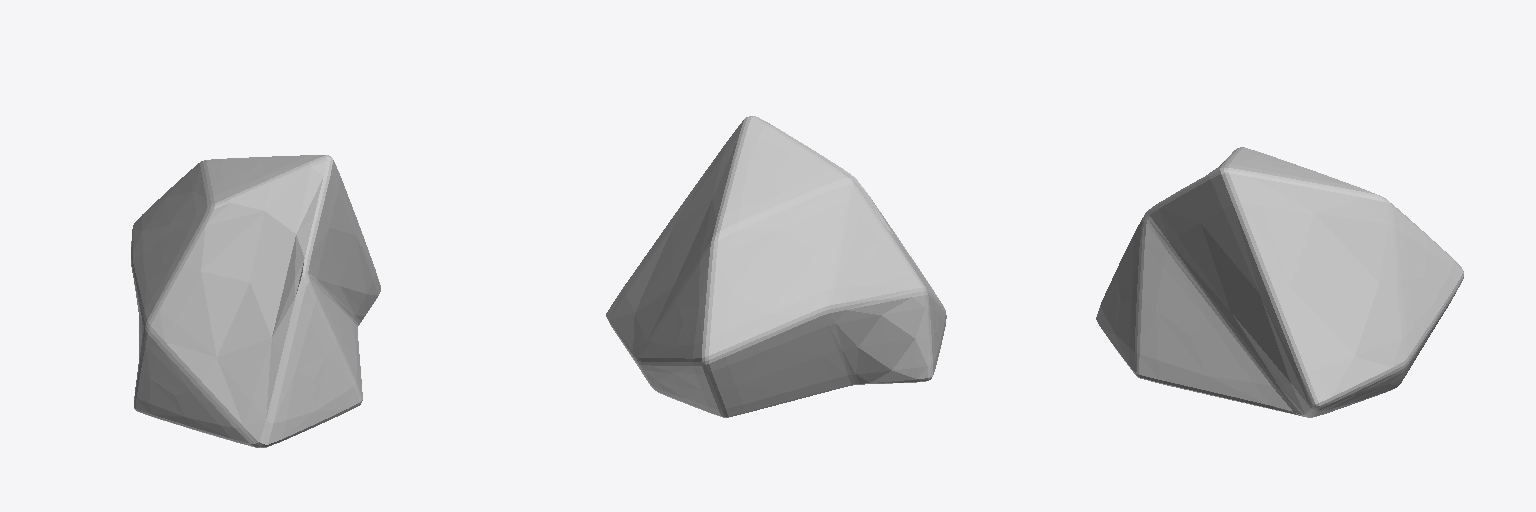
File: rock_tree1_01.obj
3 renders of one model, left to right at view 1: azimuth 30°, elevation 25°; view 2: azimuth 150°, elevation 25°; view 3: azimuth 270°, elevation 25°, orthographic.
Parts seen in each view (by area): view 1: rock_tree1_01 Rocks; view 2: rock_tree1_01 Rocks; view 3: rock_tree1_01 Rocks.
Part boxes in pixels (x1,y1,x2,y2): rock_tree1_01 Rocks: (131, 155, 380, 447); rock_tree1_01 Rocks: (606, 116, 946, 417); rock_tree1_01 Rocks: (1096, 147, 1463, 417).
Bounding box in the file's own units: 0.9762 × 0.7123 × 1.09.